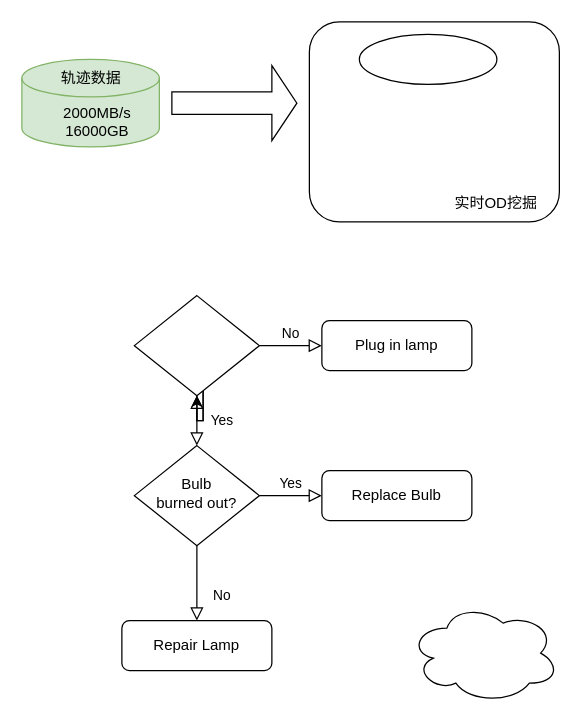
Image size: 581x725. Some labels were removed from this diagram. The shapes that lost their labels are listed below. From the top down, each one's centre as x and y in pixels, then its label:
pixel 427 58: topic: rtt_gps_matcher
pixel 196 345: Lamp plugged in?
